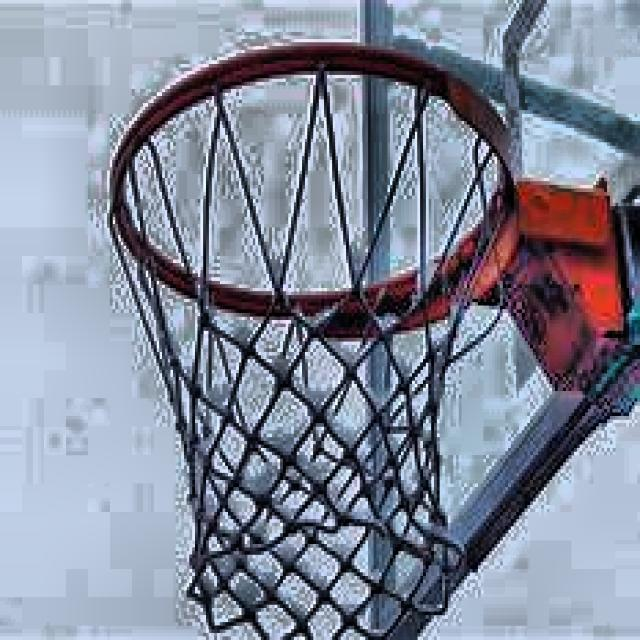rim: (104, 41, 516, 638)
